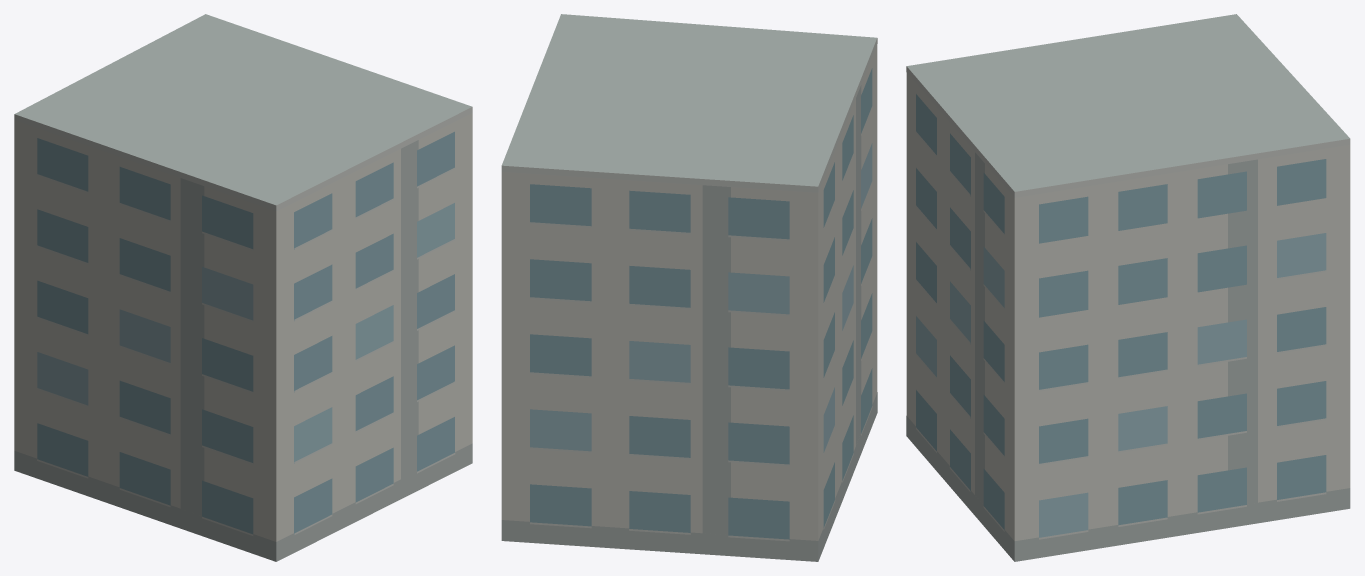
The model's file is survey-upis-32892588.glb.
3 views of the same model, side by side, from view 1: azimuth 30°, elevation 25°; view 2: azimuth 150°, elevation 25°; view 3: azimuth 270°, elevation 25° (orthographic). The views are drawn at different scales.
Visible parts, largest first — view 1: survey-upis-32892588.tmp; view 2: survey-upis-32892588.tmp; view 3: survey-upis-32892588.tmp.
Part boxes in pixels (x1,y1,x2,y2): survey-upis-32892588.tmp: (14,14,472,561); survey-upis-32892588.tmp: (501,14,877,561); survey-upis-32892588.tmp: (906,14,1350,561).
Size of the model in its own units: 15.17 by 14.7 by 15.99.
